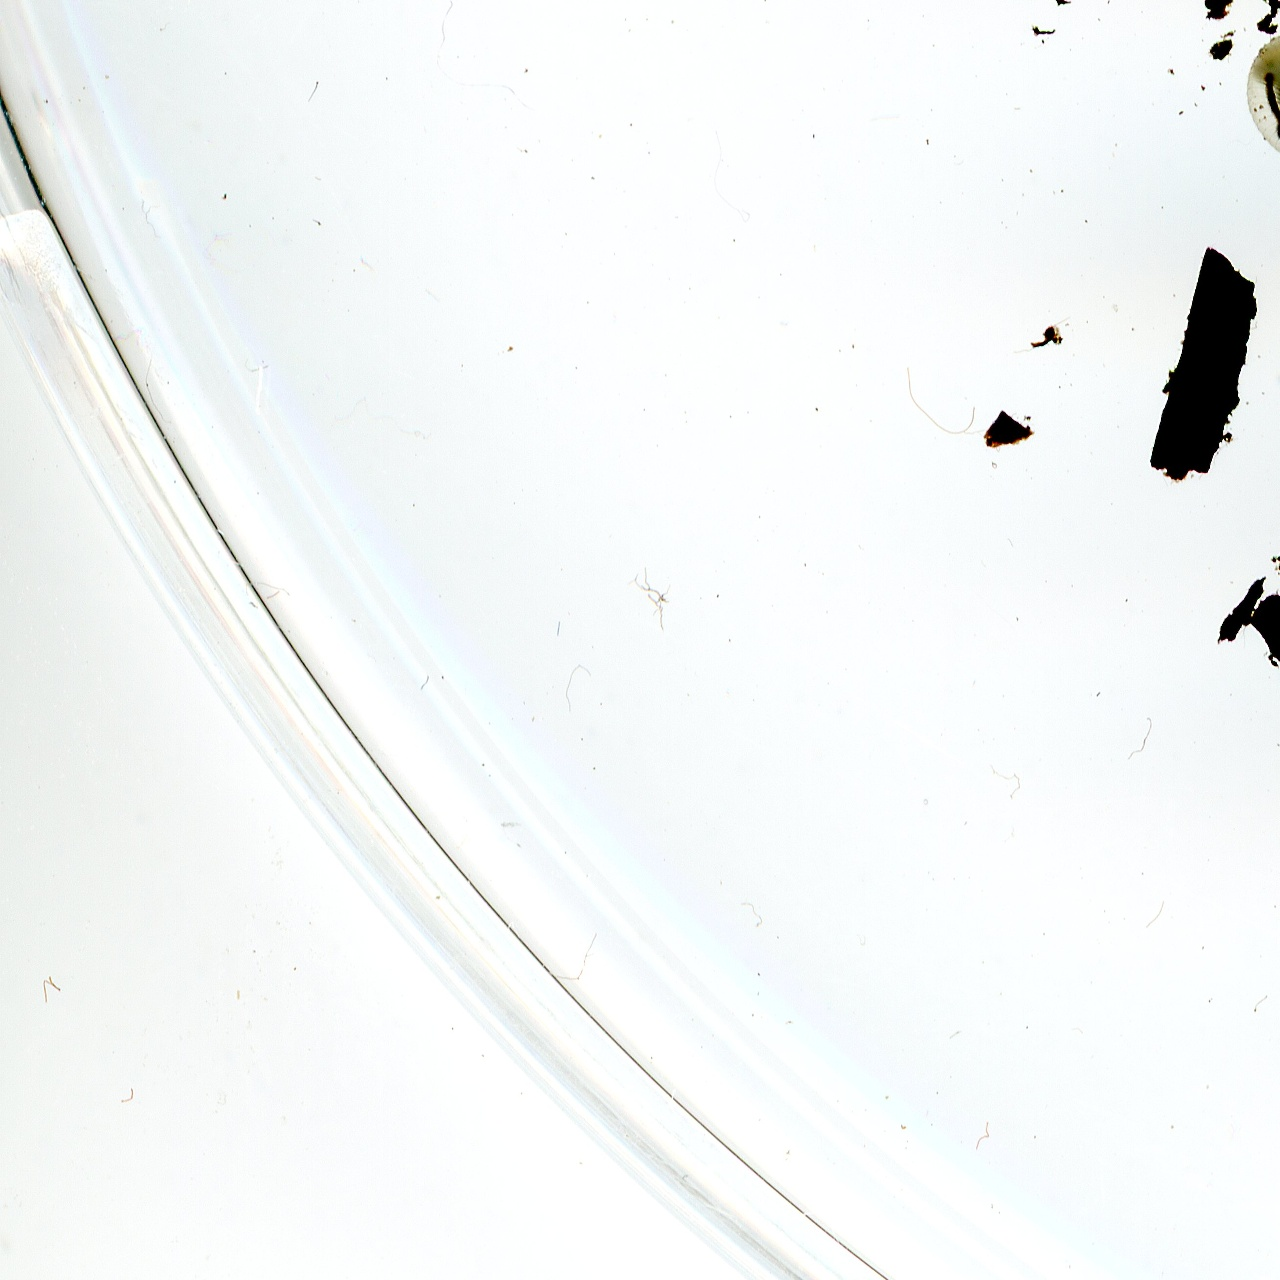arthropod: (1244, 27, 1280, 173)
